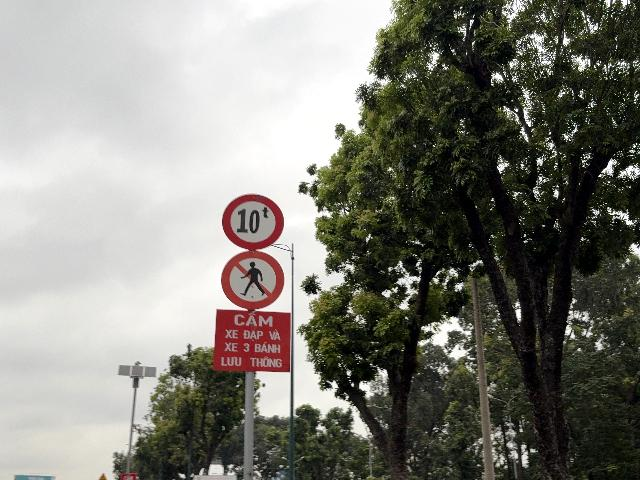cam-nguoi-di-bo: (221, 251, 285, 309)
han-che-trong-luong-xe: (223, 194, 284, 250)
